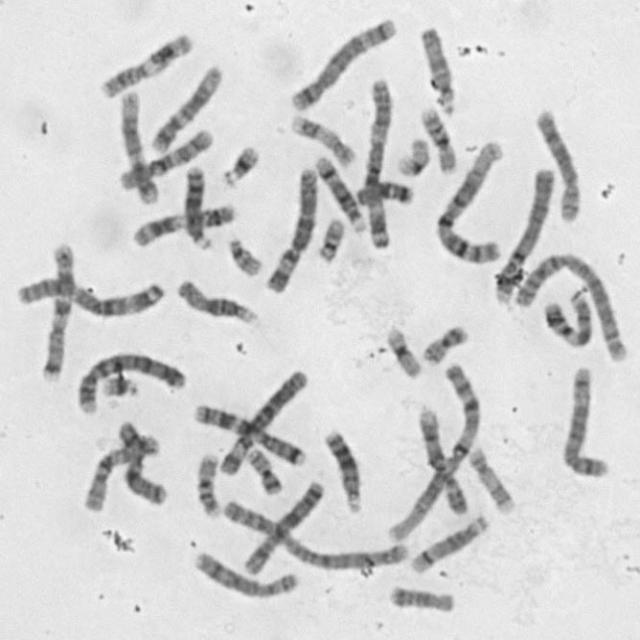A1: (381, 358, 483, 544), (429, 135, 507, 266)
A2: (219, 494, 409, 573), (509, 246, 632, 363)
A3: (13, 272, 168, 319), (360, 74, 397, 252)
B4: (488, 161, 558, 305), (70, 345, 190, 416)
B5: (286, 12, 400, 113), (557, 361, 611, 479)
C10: (115, 123, 217, 193), (79, 429, 161, 513)
C11: (95, 26, 195, 101), (125, 197, 238, 249)
C12: (145, 58, 225, 154), (116, 85, 161, 204)
C6: (214, 363, 308, 479), (261, 160, 322, 295)
C7: (188, 397, 308, 468), (38, 236, 78, 382)
C8: (530, 102, 583, 224), (188, 545, 301, 601)
C9: (412, 403, 470, 517), (540, 284, 596, 349)
D13: (319, 422, 367, 514), (180, 160, 215, 252)
D14: (406, 510, 492, 576), (310, 149, 369, 234)
D15: (172, 273, 260, 327), (415, 19, 459, 116)
E16: (416, 102, 459, 175), (192, 447, 224, 518)
E17: (286, 108, 358, 169), (464, 441, 516, 515)
E18: (384, 580, 458, 614), (352, 175, 416, 208)
F19: (380, 320, 424, 380), (391, 132, 431, 178)
F20: (417, 318, 471, 366), (240, 442, 284, 496)
G21: (216, 139, 262, 188), (98, 370, 141, 400)
G22: (223, 232, 266, 278), (313, 212, 348, 265)
X: (240, 475, 328, 578), (113, 416, 171, 507)
